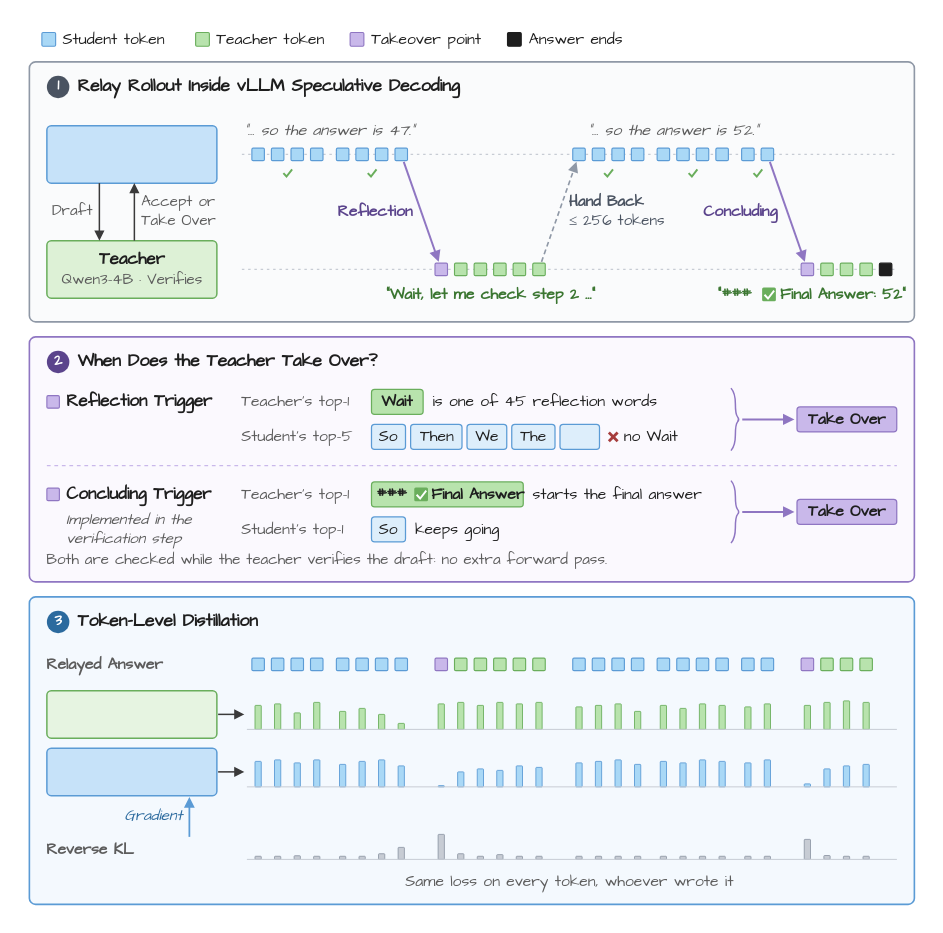
This 943x933 diagram has some shape labels left out. The centre of each missing label's shape, as x and y in pixels:
"Let" goes at (x=579, y=436).
"Student Being trained" goes at (x=131, y=771).
"Student Qwen3-1.7B · Drafts" goes at (x=131, y=153).
"Teacher Scorer Separate GPU" goes at (x=131, y=713).
